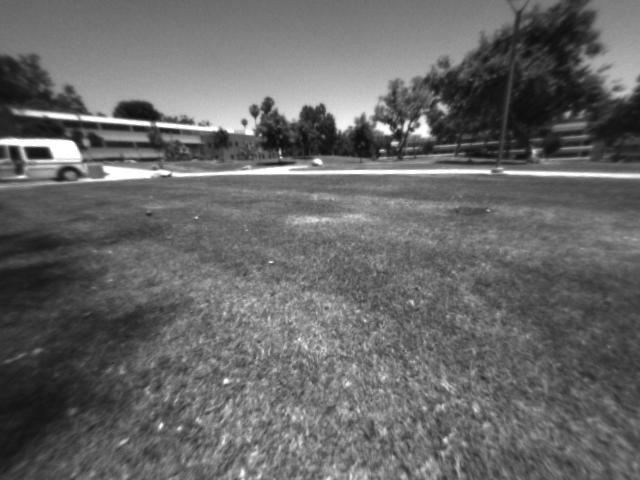dogtoy: (138, 203, 163, 222)
